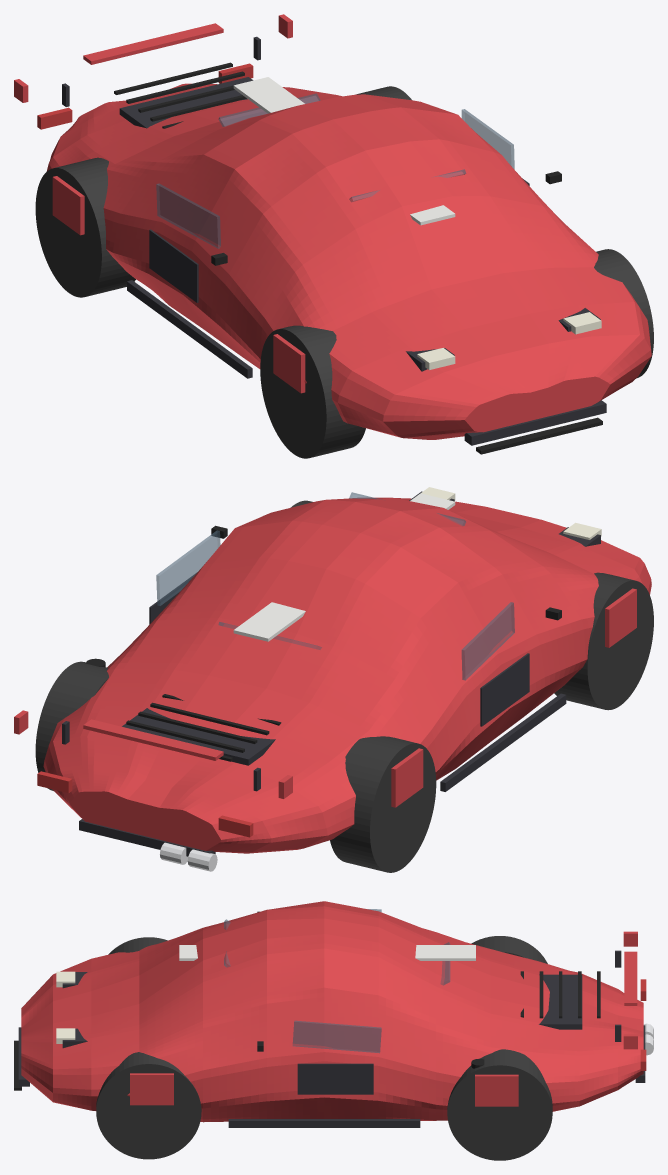
File: rival.glb
The picture shows the model from 3 angles, top to bottom: view 1: azimuth 30°, elevation 25°; view 2: azimuth 150°, elevation 25°; view 3: azimuth 270°, elevation 25°; orthographic projection. The views are drawn at different scales.
Parts seen in each view (by area): view 1: Body, Tire_FR, Tire_RR, SideGlass_R, DoorLine_R, Stripe, EngineCover, Skirt_R, Tire_FL, Spoiler, Bumper_F, Arch_RR (+5 smaller); view 2: Body, Tire_RR, Tire_FR, Tire_RL, EngineCover, DoorLine_R, Stripe, SideGlass_L, SideGlass_R, Skirt_R, Spoiler, Arch_RR (+7 smaller); view 3: Body, Tire_RL, Tire_FL, DoorLine_L, SideGlass_L, EngineCover, Skirt_L, Arch_FL, Arch_RL, Stripe, Tire_RR, Spoiler (+1 smaller).
Boxes of the visible parts, x1,y1,x2,y2 form: Body: (46,83,651,439); Tire_FR: (260,325,365,458); Tire_RR: (35,157,135,297); SideGlass_R: (156,183,220,248); DoorLine_R: (149,229,198,302); Stripe: (233,77,455,225); EngineCover: (119,77,253,128); Skirt_R: (127,280,252,378); Tire_FL: (594,249,653,377); Spoiler: (83,23,223,64); Bumper_F: (464,400,606,445); Arch_RR: (52,176,84,235); Body: (43,497,651,853); Tire_RR: (330,736,436,872); Tire_FR: (554,572,653,710); Tire_RL: (35,661,108,790); EngineCover: (122,708,275,765); DoorLine_R: (480,653,529,726); Stripe: (233,493,455,641); SideGlass_L: (156,530,220,605); SideGlass_R: (461,602,514,680); Skirt_R: (440,693,566,791); Spoiler: (83,719,223,760); Arch_RR: (391,748,423,807); Body: (21,901,643,1122); Tire_RL: (447,1049,552,1160); Tire_FL: (96,1052,201,1159); DoorLine_L: (297,1063,373,1094); SideGlass_L: (292,1020,381,1053); EngineCover: (539,974,582,1029); Skirt_L: (228,1119,420,1127); Arch_FL: (130,1073,173,1105); Arch_RL: (475,1074,518,1106); Stripe: (179,945,475,960); Tire_RR: (471,936,547,963); Spoiler: (624,951,637,1005).
Size of the model in its own units: 1.99 by 1.19 by 4.01.
